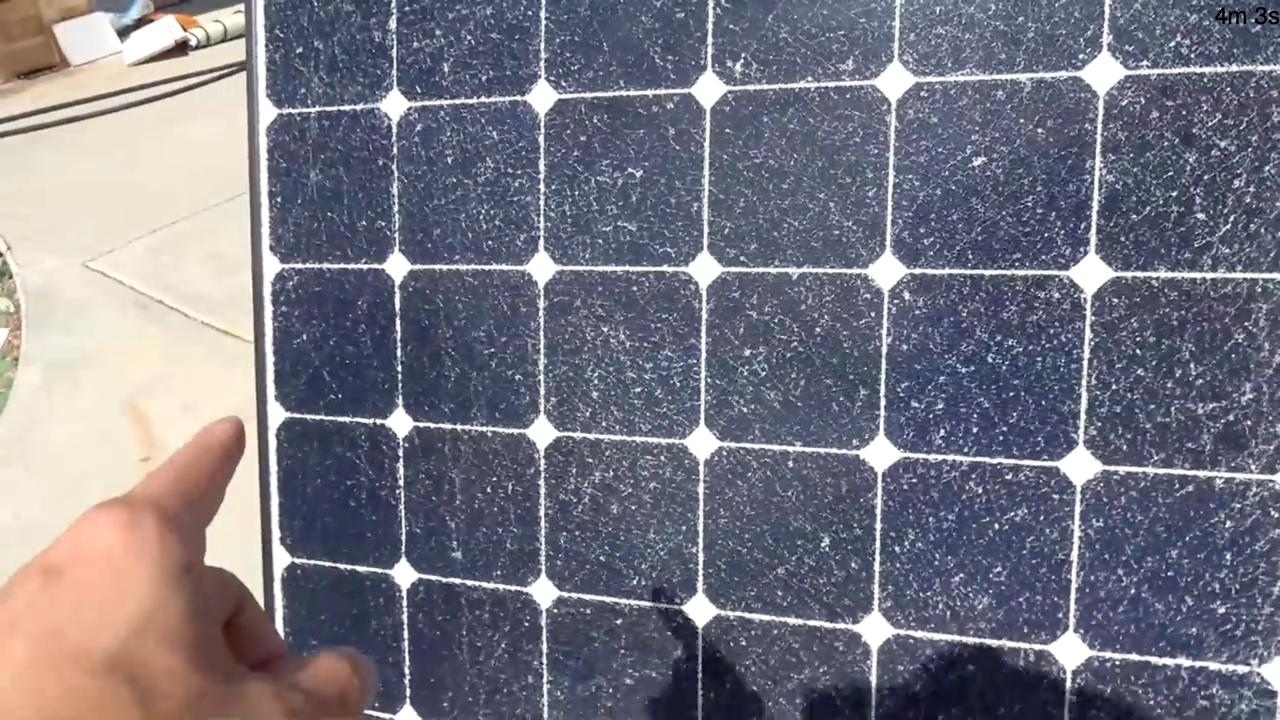Crack: (401, 5, 884, 529), (884, 0, 1280, 542), (428, 540, 1279, 720), (270, 4, 410, 423)
